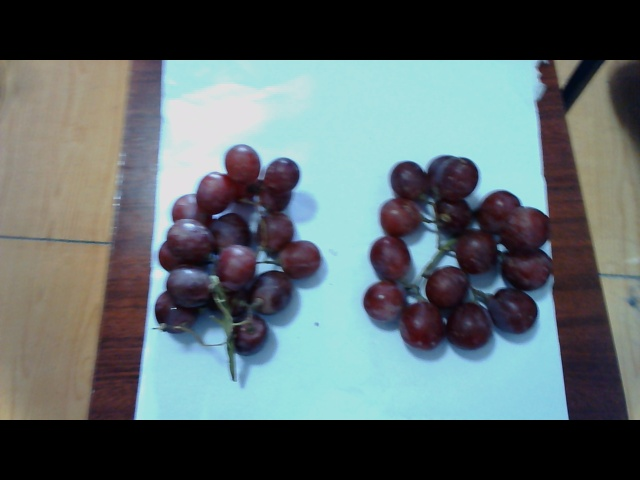grape: (355, 150, 554, 360), (159, 144, 318, 368)
